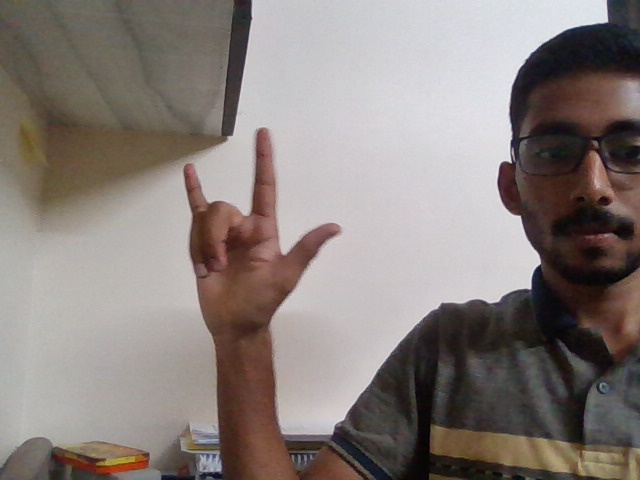Enjoy: (166, 113, 364, 365)
